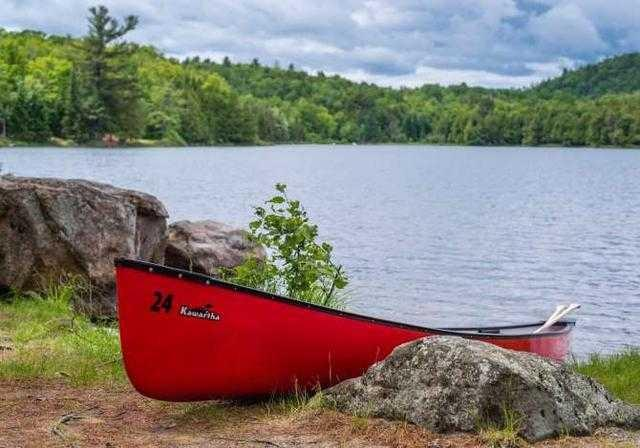kayak: (114, 257, 580, 402)
